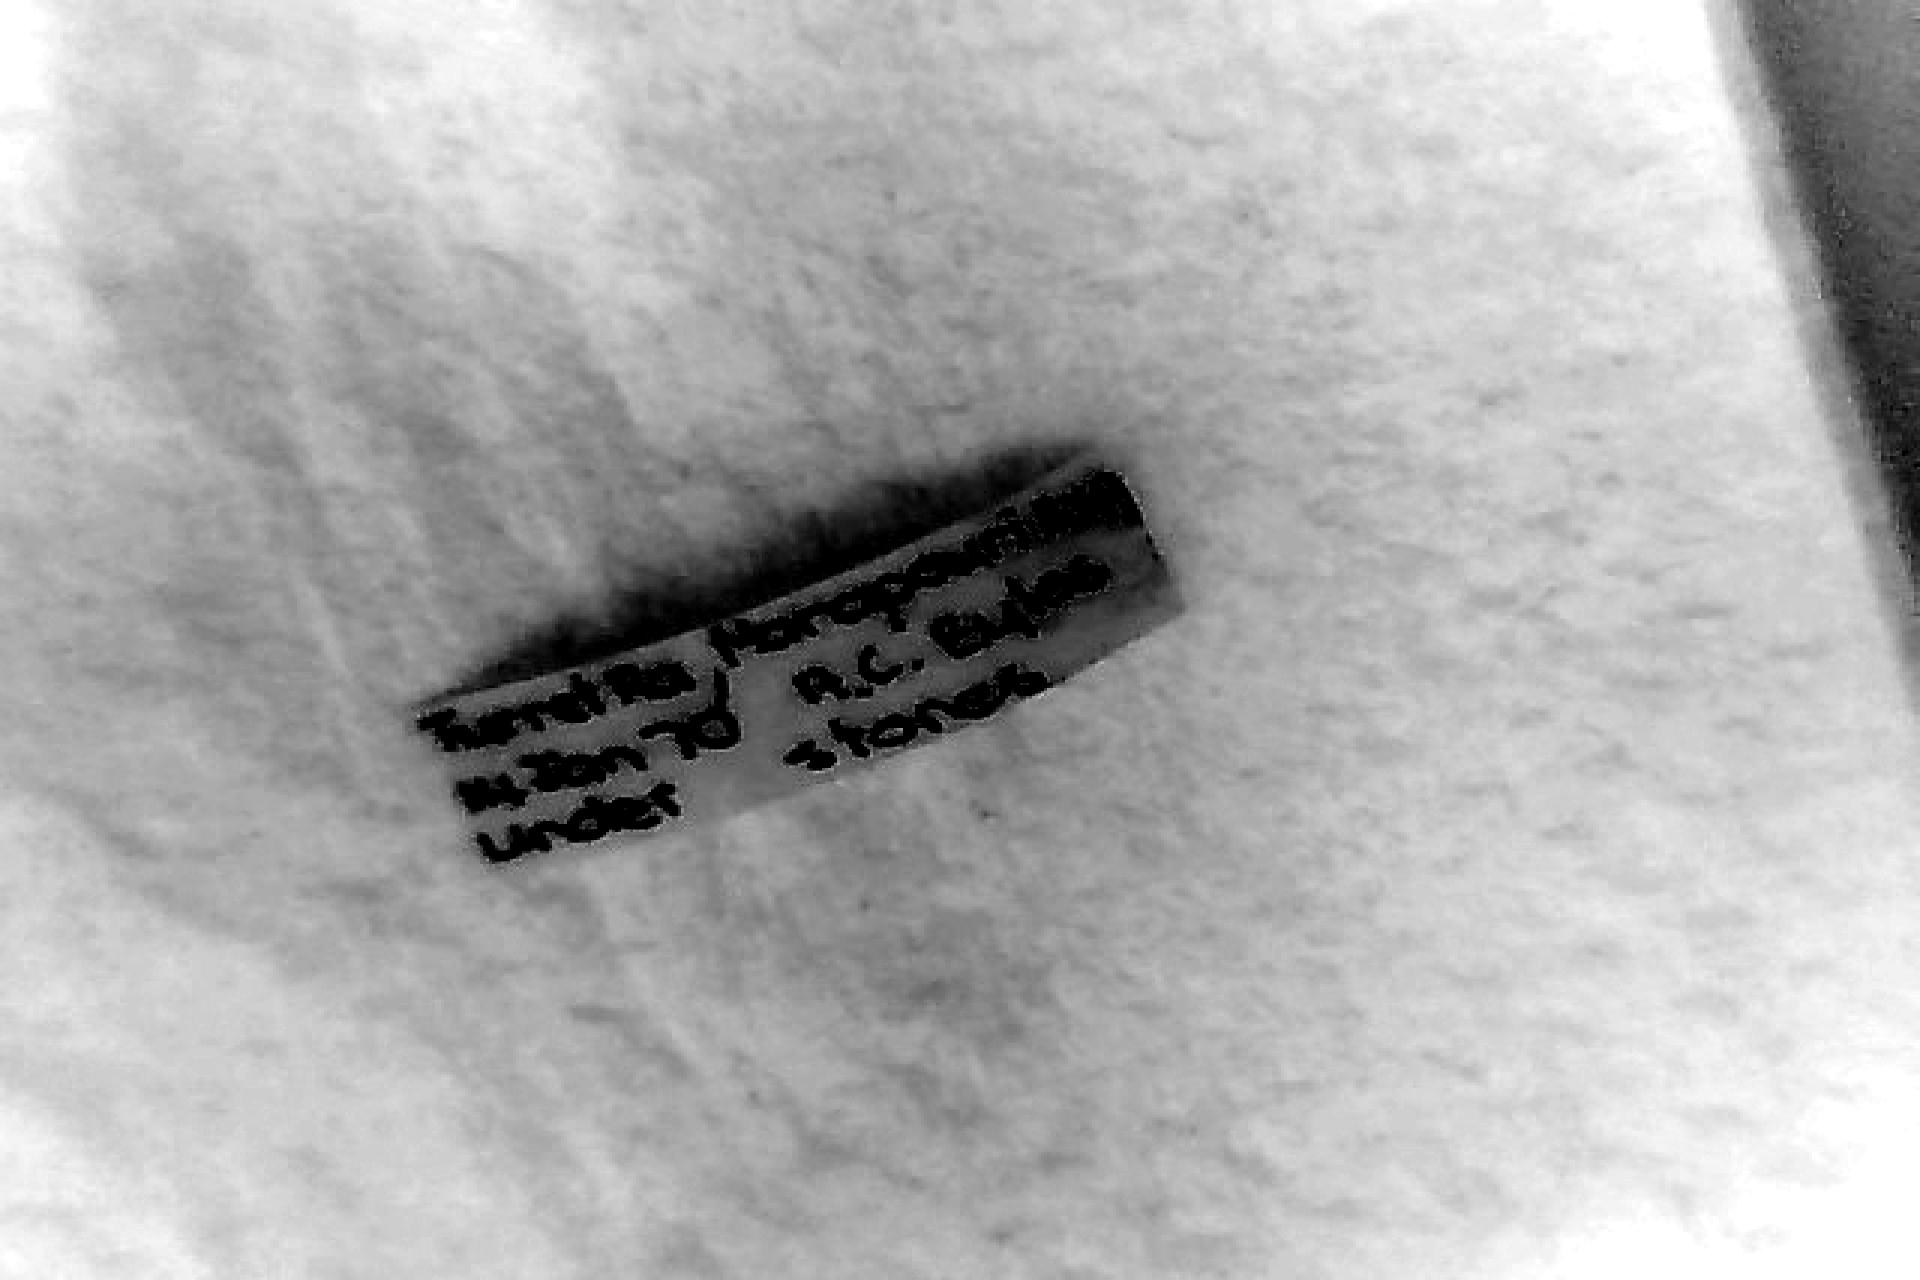hand_label: (420, 453, 1181, 861)
